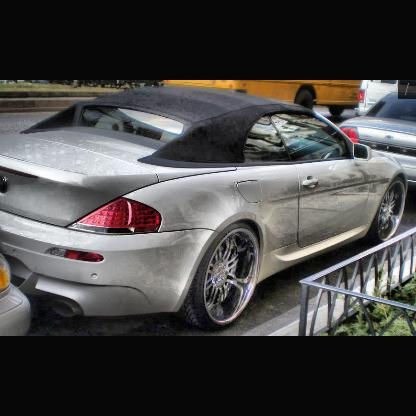BMW M6 Convertible 2010: (2, 84, 409, 331)
